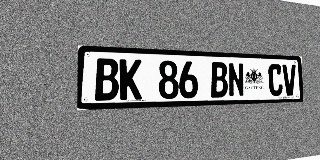6: (179, 61, 198, 98)
8: (158, 60, 179, 99)
B: (95, 58, 119, 101), (210, 62, 228, 98)
C: (268, 64, 283, 96)
K: (119, 59, 142, 100)
N: (228, 62, 244, 97)
V: (282, 64, 296, 96)
